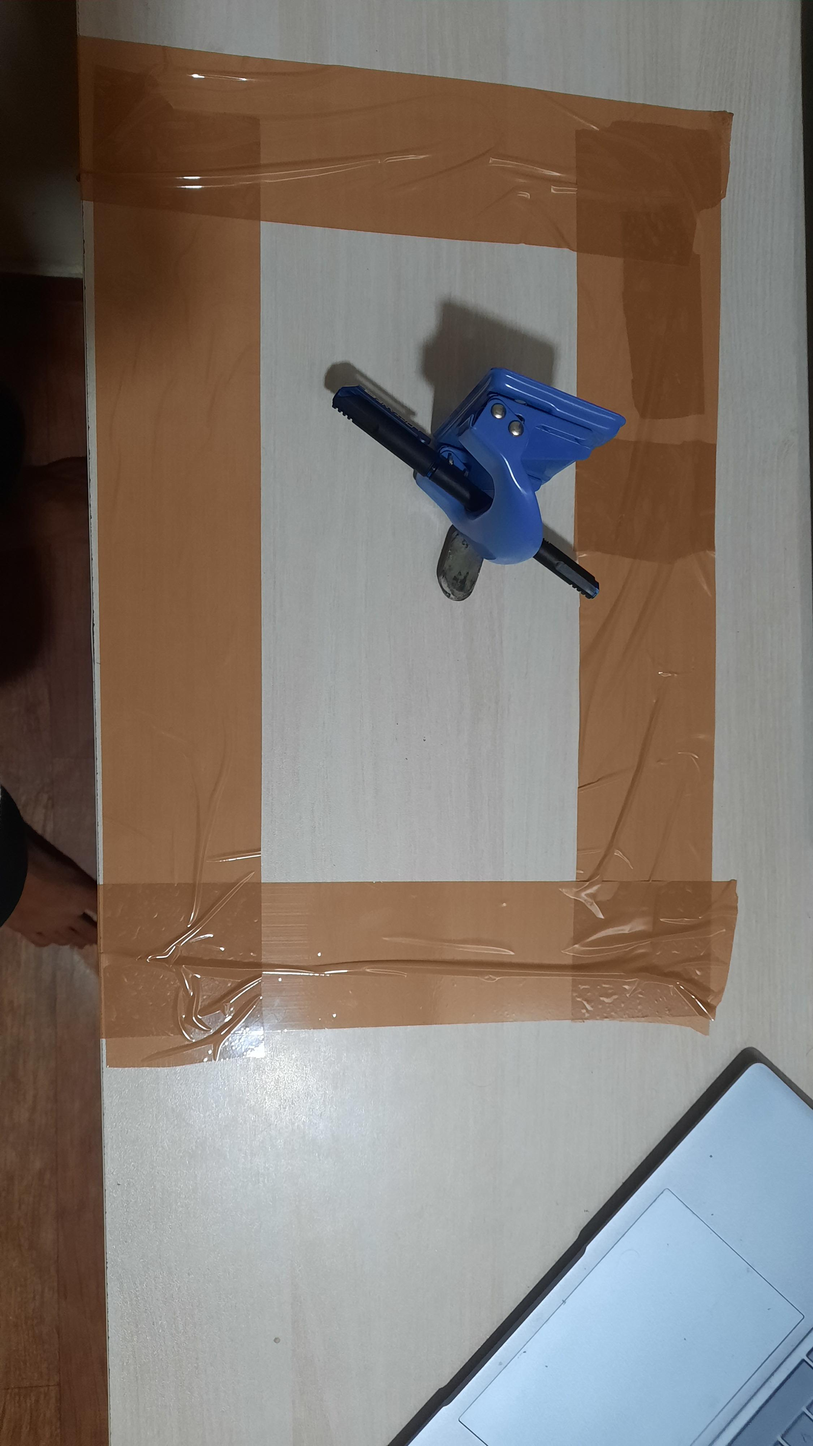Eraser: (436, 523, 484, 602)
Pen: (332, 386, 599, 599)
Punch: (412, 367, 626, 565)
